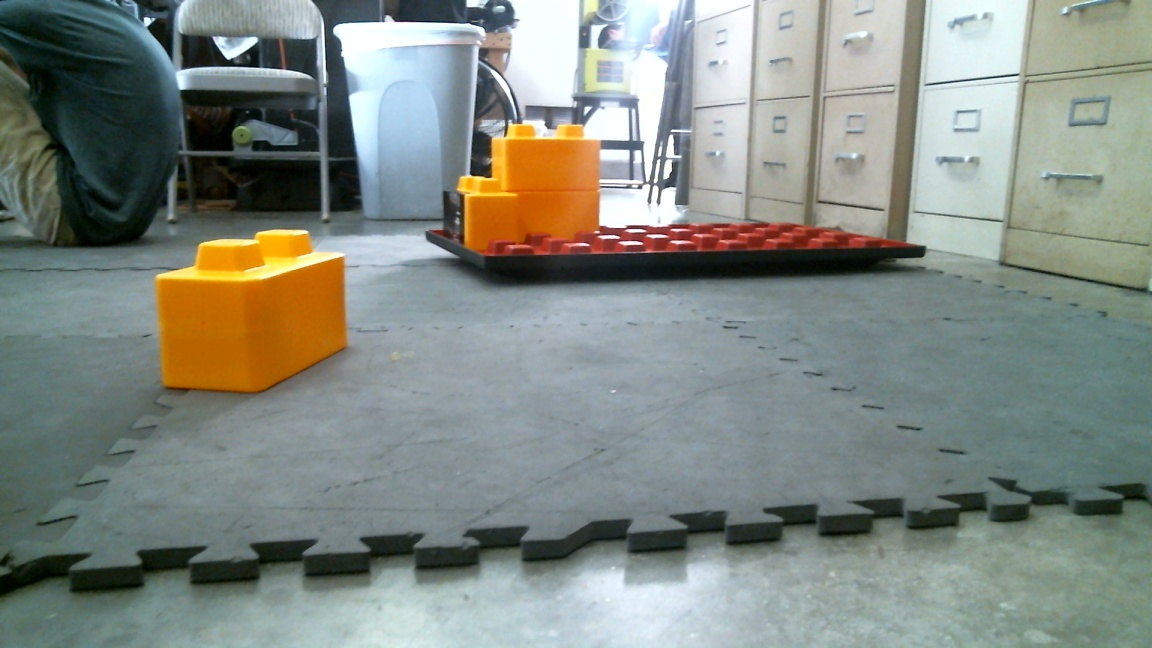red_foundation: (420, 217, 938, 275)
skystone: (440, 174, 506, 245)
stone: (155, 226, 360, 391), (496, 123, 601, 189), (502, 182, 602, 240)
